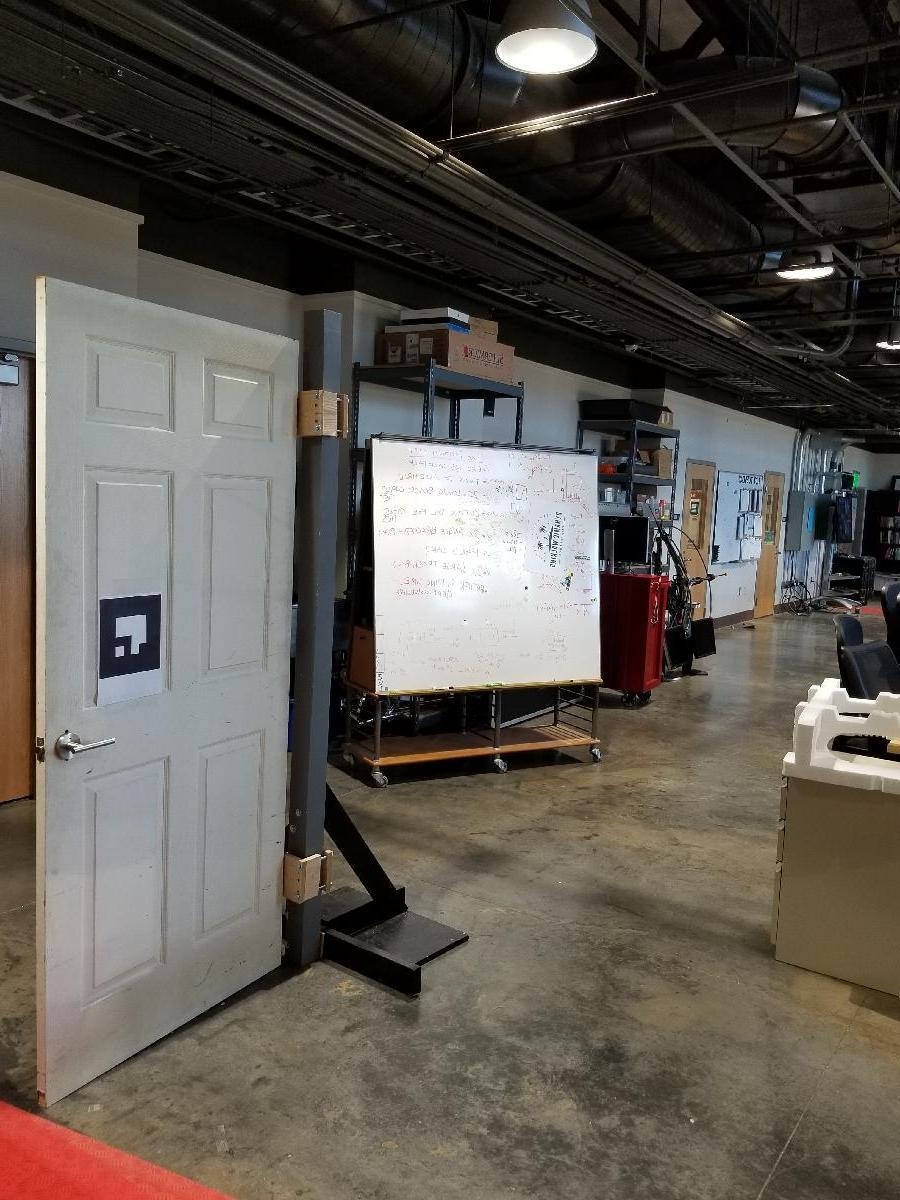door: (32, 328, 306, 1037)
handle: (55, 728, 114, 761)
